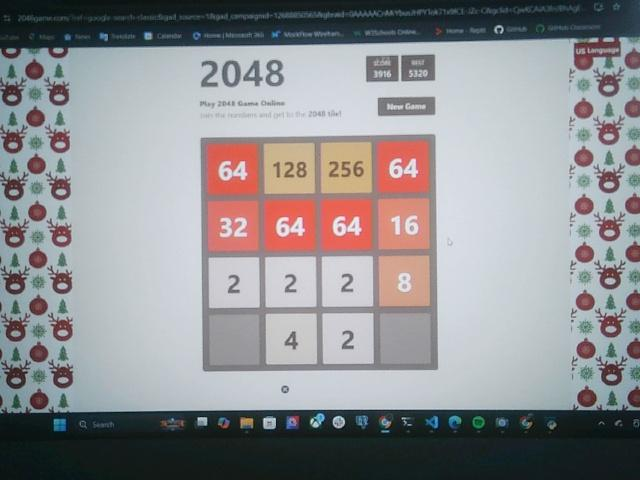best_score_box: (401, 54, 435, 82)
button: (378, 97, 435, 116)
score_box: (366, 55, 399, 81)
